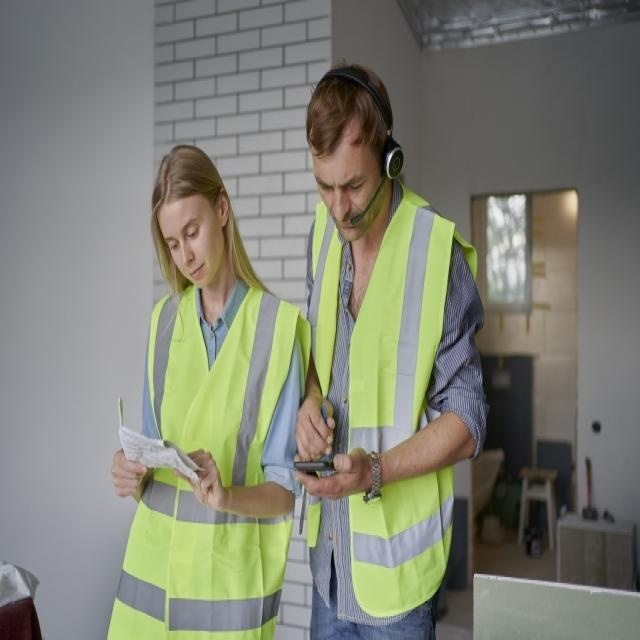Con_Chaleco: (306, 203, 462, 598), (123, 294, 298, 640)
Sin_Casco_Mascarrilla: (305, 67, 400, 245), (146, 145, 231, 284)
